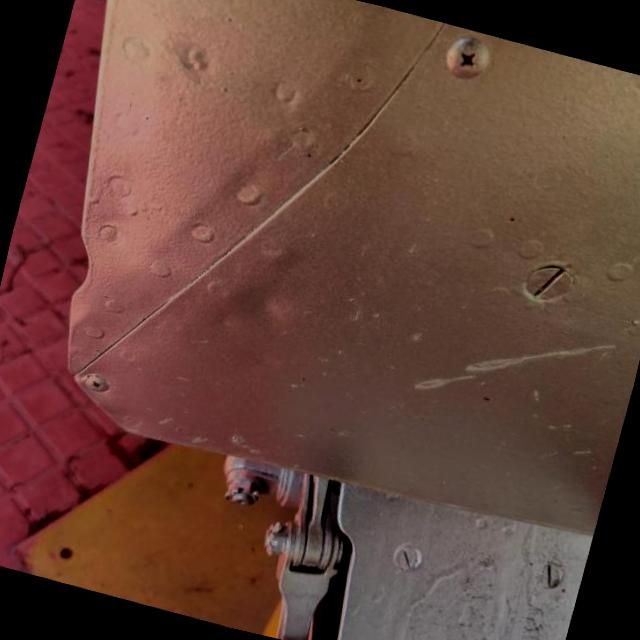dent: (205, 221, 322, 356), (66, 229, 116, 314)
